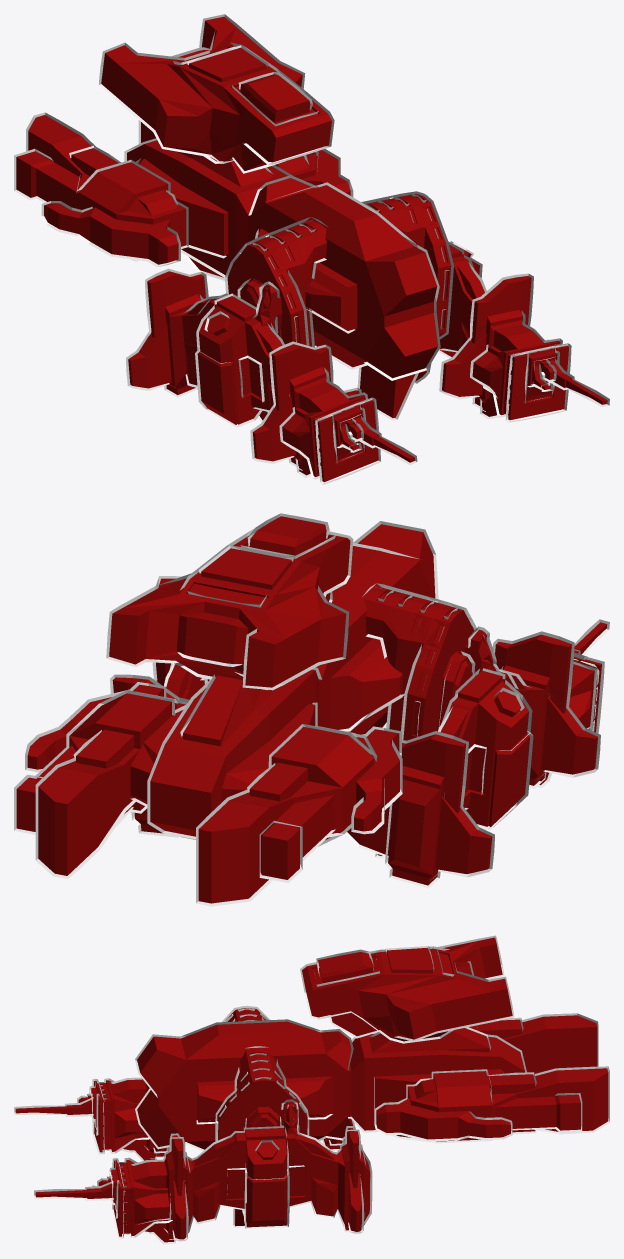
The model's file is ship19_red.glb.
3 renders of one model, top to bottom at view 1: azimuth 30°, elevation 25°; view 2: azimuth 150°, elevation 25°; view 3: azimuth 270°, elevation 25°, orthographic. The views are drawn at different scales.
Visible parts, largest first — view 1: ME_ship_IndexedFaceSet; view 2: ME_ship_IndexedFaceSet; view 3: ME_ship_IndexedFaceSet.
Boxes of the visible parts, <box> form: ME_ship_IndexedFaceSet: <box>14,14,609,484</box>; ME_ship_IndexedFaceSet: <box>14,513,609,906</box>; ME_ship_IndexedFaceSet: <box>14,935,609,1244</box>.
Size of the model in its own units: 274 by 233 by 506.
